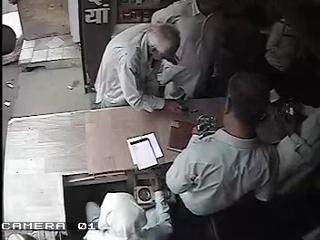Normal: (165, 70, 280, 240), (92, 22, 182, 114), (150, 0, 225, 102)
